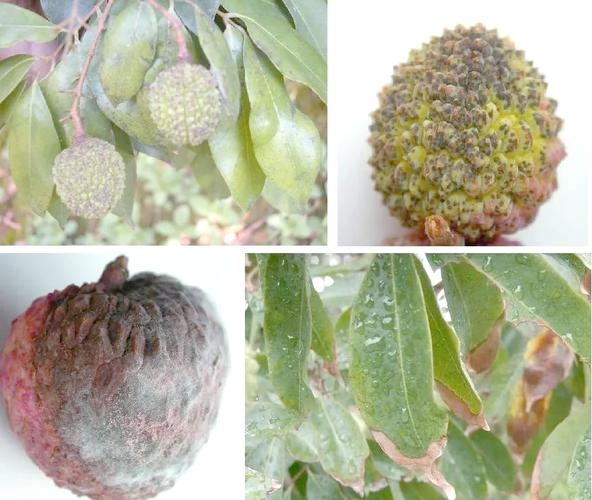Anthracnose: (299, 321, 556, 449), (373, 26, 556, 203), (66, 297, 218, 479)
